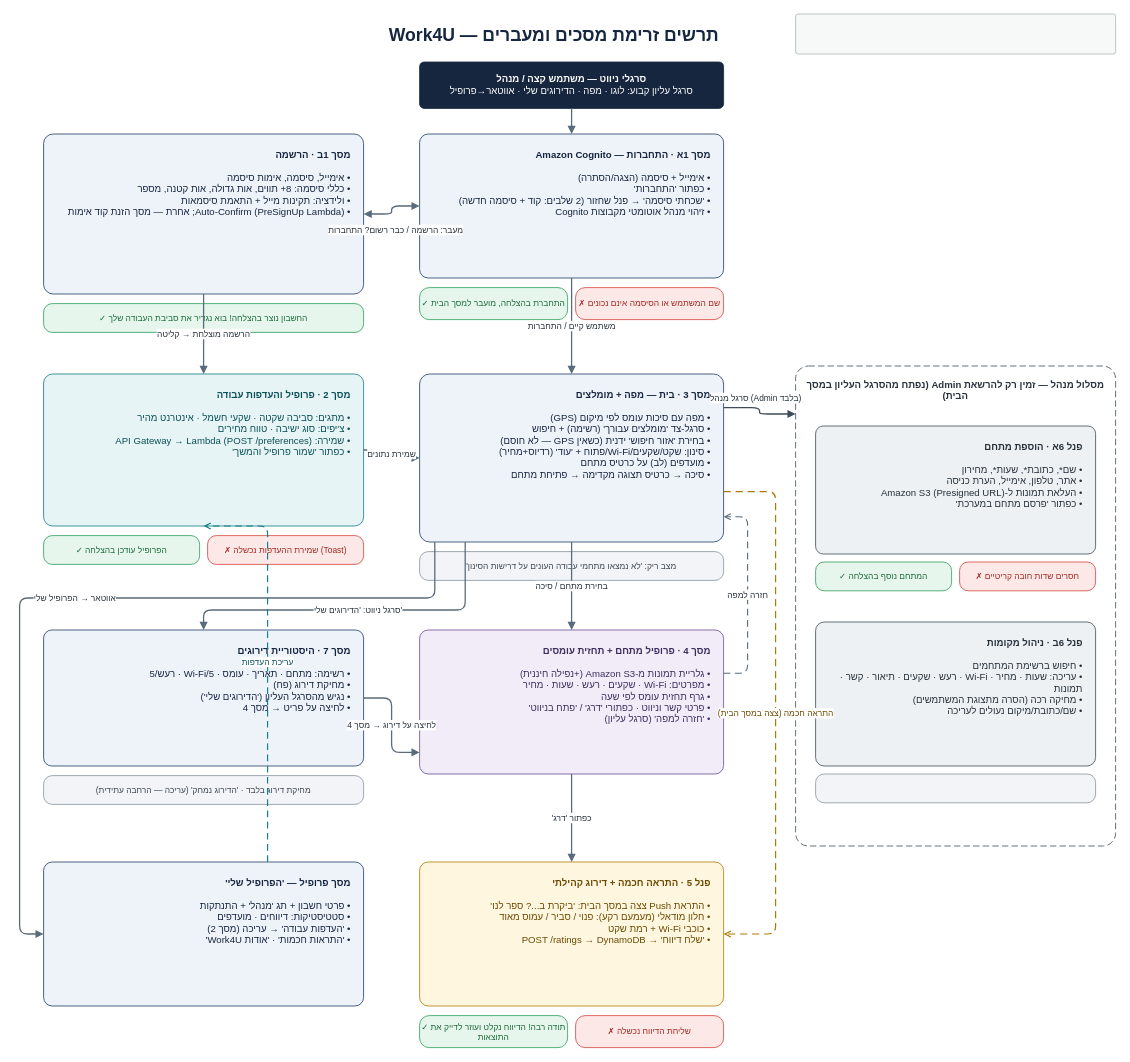
Some shapes in this 1130 by 1062 pixel diagram are drawn without their labels. The shapes that lost their labels are listed below. From the top down, each one's centre as x and y in pixels, then its label:
pixel 955 33: מקרא ← קו מלא: ניווט / פעולה / כתיבה ⟵ קו מקווקו: חזרה / אסינכרוני / טריגר
pixel 955 788: 'הודעות: 'השינויים נשמרו בהצלחה' / 'המקום הוסר מהתצוגה
